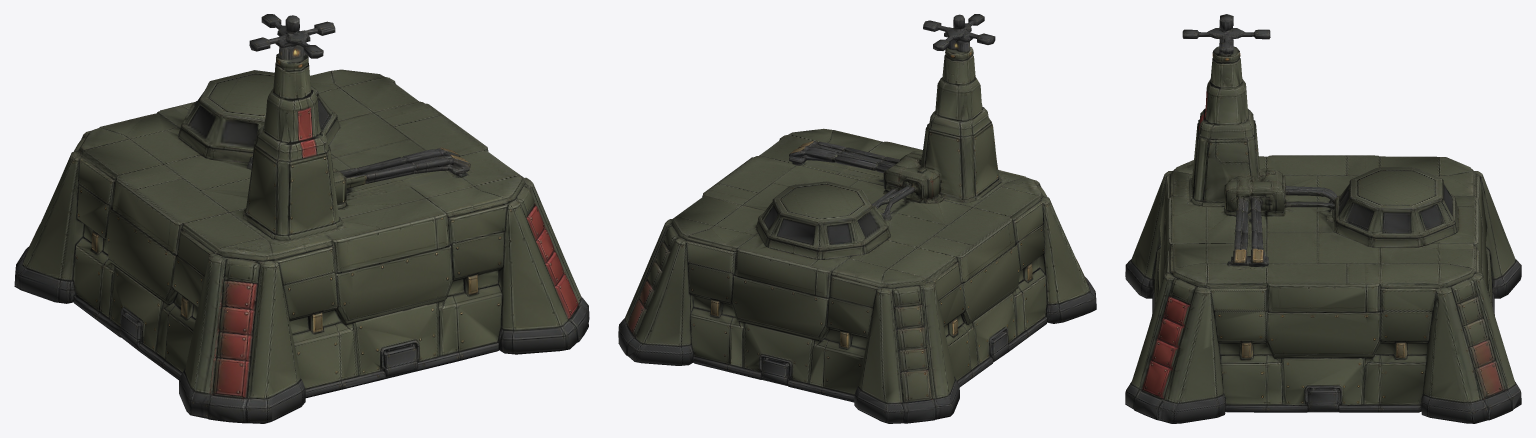
The model's file is command-bunker.glb.
3 renders of one model, left to right at view 1: azimuth 30°, elevation 25°; view 2: azimuth 150°, elevation 25°; view 3: azimuth 270°, elevation 25°, orthographic. The views are drawn at different scales.
Visible parts, largest first — view 1: mesh_node; view 2: mesh_node; view 3: mesh_node.
Boxes of the visible parts, left/top/right/bottom form: mesh_node: left=14, top=14, right=589, bottom=423; mesh_node: left=618, top=14, right=1096, bottom=423; mesh_node: left=1125, top=14, right=1521, bottom=423.
Size of the model in its own units: 2 by 1.64 by 2.
1 material, 1 textured.
